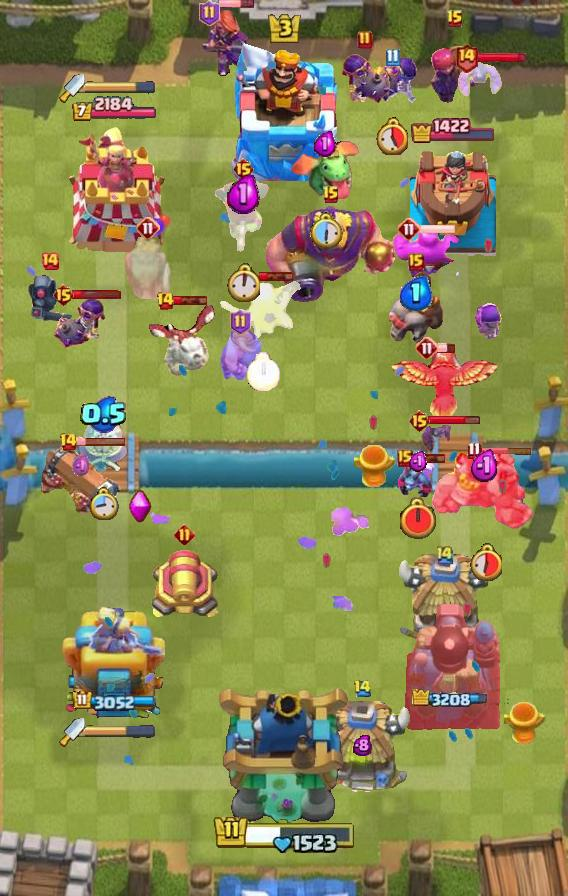bar: (55, 126, 173, 256), (60, 607, 168, 731)
barbarian: (453, 60, 505, 98)
barbarian-barrel: (419, 423, 451, 453)
battle-healer: (41, 442, 123, 526)
battle-ram: (25, 272, 75, 326)
cannoneer-tower: (432, 447, 538, 531)
clock: (212, 811, 356, 853)
electro-spirit: (80, 396, 128, 433), (227, 174, 260, 215), (399, 277, 432, 311), (470, 449, 500, 483), (314, 130, 336, 157), (72, 453, 92, 478), (352, 734, 372, 756), (408, 451, 427, 473)
electro-wizard: (286, 138, 364, 200)
elite-barbarian: (387, 269, 445, 345)
elixir: (398, 497, 438, 541), (309, 212, 344, 250), (226, 262, 260, 301), (246, 353, 280, 392), (469, 543, 503, 581), (376, 117, 408, 155), (89, 488, 119, 520)
elixir-collector: (76, 415, 132, 475)
emote: (477, 51, 528, 64), (428, 414, 481, 426), (72, 288, 122, 300), (75, 437, 127, 448), (479, 445, 533, 455), (420, 223, 457, 235), (172, 294, 208, 305), (410, 453, 446, 464), (258, 271, 293, 282), (217, 0, 255, 8), (436, 343, 455, 354)
goblin: (474, 303, 502, 341)
goblin-ball: (52, 295, 108, 351), (338, 52, 392, 108), (365, 55, 419, 105)
goblin-barrel: (213, 175, 273, 253)
goblin-giant: (219, 326, 260, 381)
golden-knight: (388, 348, 500, 428)
king-tower: (216, 684, 352, 826), (231, 43, 337, 181)
king-tower-bar: (85, 81, 155, 95), (85, 725, 155, 739)
lightning: (262, 206, 400, 302)
mega-minion: (427, 30, 483, 106)
mini-pekka: (145, 301, 217, 379)
mortar-evolution: (121, 234, 175, 300)
poison: (219, 276, 307, 350)
prince: (394, 554, 496, 650), (311, 701, 413, 797)
queen-tower: (410, 144, 496, 255)
royal-delivery: (397, 457, 439, 497)
royal-recruit: (148, 549, 220, 623)
selected: (70, 97, 157, 124), (411, 116, 498, 143), (72, 689, 155, 711), (412, 689, 494, 711)
skeleton-king-skill: (128, 490, 152, 524)
tesla-evolution: (200, 7, 252, 79)
text: (454, 42, 479, 73), (136, 216, 160, 240), (397, 217, 421, 241), (415, 336, 439, 360), (232, 157, 255, 181), (52, 283, 75, 307), (409, 409, 432, 433), (199, 0, 220, 26), (229, 309, 250, 335), (174, 523, 195, 545), (435, 544, 455, 565), (40, 251, 60, 271), (157, 291, 176, 311), (58, 432, 77, 452), (446, 9, 464, 29), (322, 185, 340, 205), (352, 679, 372, 697), (357, 30, 373, 50), (408, 253, 424, 271), (397, 449, 413, 467), (385, 49, 399, 67), (467, 441, 481, 459)
tornado: (392, 227, 460, 279)
tower-bar: (403, 601, 503, 731)
